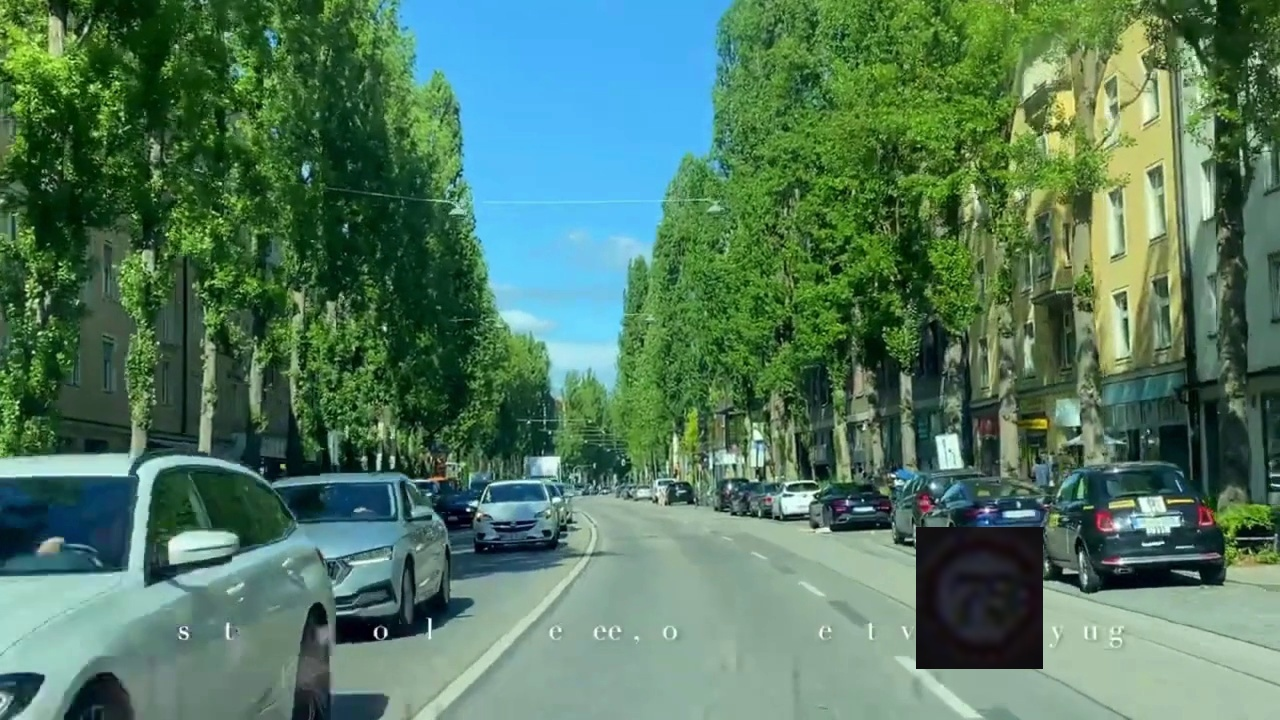Speed 70: (916, 527, 1043, 669)
